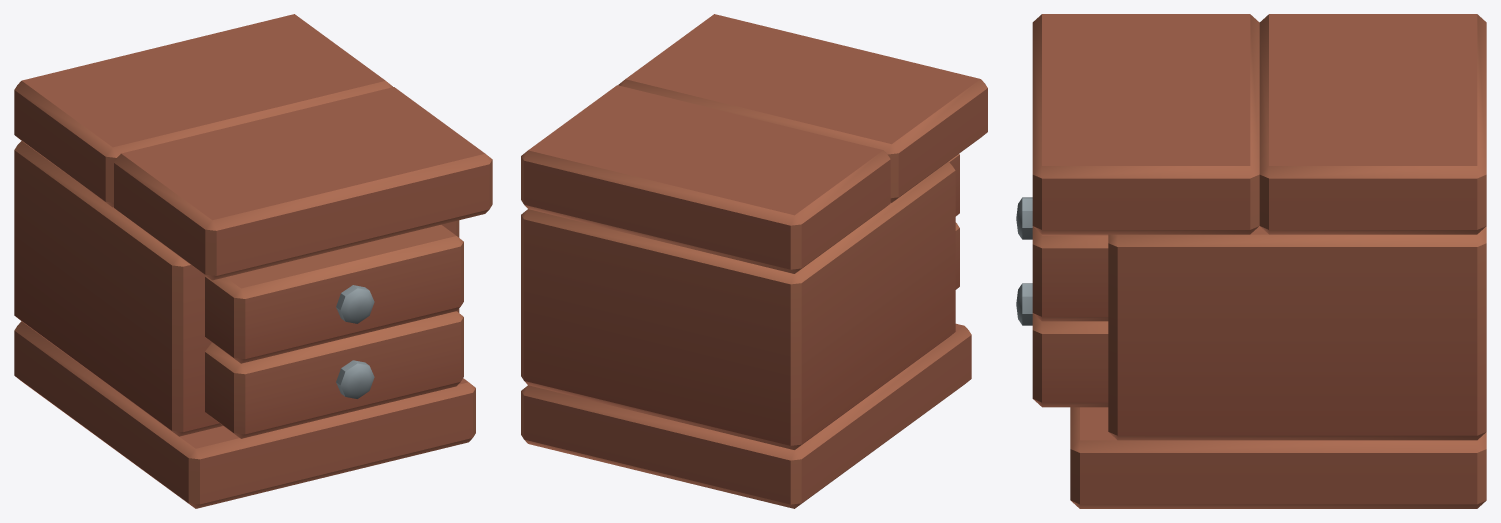
Rendered from bar_straight_B_short.glb.
3 views of the same model, side by side, from view 1: azimuth 30°, elevation 25°; view 2: azimuth 150°, elevation 25°; view 3: azimuth 270°, elevation 25° (orthographic). The views are drawn at different scales.
Visible parts, largest first — view 1: bar_straight_B_short; view 2: bar_straight_B_short; view 3: bar_straight_B_short.
Boxes of the visible parts, x1,y1,x2,y2 form: bar_straight_B_short: (14,14,492,508); bar_straight_B_short: (521,14,987,508); bar_straight_B_short: (1016,14,1486,508).
Size of the model in its own units: 1 by 1 by 1.24.
Materials: 1 (1 with a texture image).
